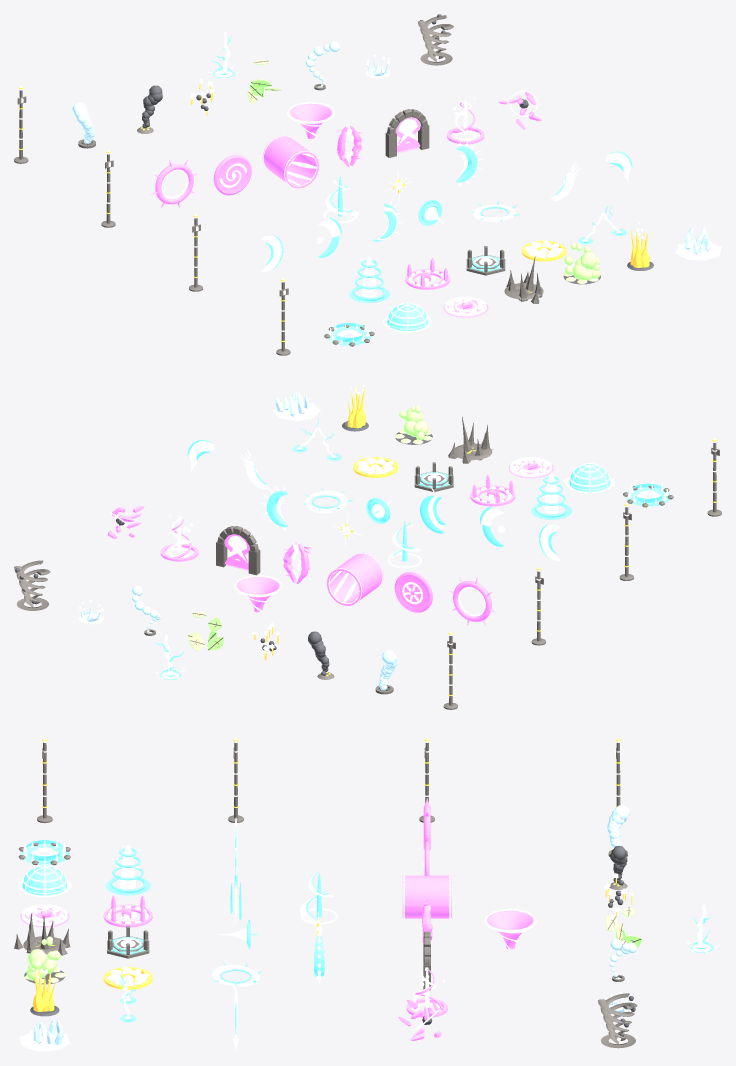
File: vfx-mesh-library-ability-showcase-grid-5e204cd5__21935.glb
3 renders of one model, top to bottom at view 1: azimuth 30°, elevation 25°; view 2: azimuth 150°, elevation 25°; view 3: azimuth 270°, elevation 25°, orthographic. The views are drawn at different scales.
Parts seen in each view (by area): view 1: 026-warp-tunnel-segment/0, 025-portal-disc-swirl/0, 039-dust-devil/0, 004-poison-cloud-lobes/0, 028-gateway-arch/0, 006-ice-patch-shards/0, 003-spike-eruption-cluster/0, 031-wormhole-funnel/0, 001-expanding-dome/0, 024-portal-ring/0, 007-healing-column/1, 008-summoning-circle/0 (+4 smaller); view 2: 026-warp-tunnel-segment/0, 025-portal-disc-swirl/0, 039-dust-devil/0, 028-gateway-arch/0, 003-spike-eruption-cluster/0, 004-poison-cloud-lobes/0, 006-ice-patch-shards/0, 031-wormhole-funnel/0, 001-expanding-dome/0, 024-portal-ring/0, 036-falling-leaf-cluster/0, 007-healing-column/1 (+6 smaller); view 3: 026-warp-tunnel-segment/0, 039-dust-devil/0, 004-poison-cloud-lobes/0, 006-ice-patch-shards/0, 031-wormhole-funnel/0, 003-spike-eruption-cluster/0, 001-expanding-dome/0, 007-healing-column/1, 008-summoning-circle/0, 001-expanding-dome/1, 002-ground-rune-circle/1, 009-teleport-pad-glyph/0 (+7 smaller).
Part boxes in pixels (<box>): 026-warp-tunnel-segment/0: <box>262,135,319,188</box>; 025-portal-disc-swirl/0: <box>213,154,251,195</box>; 039-dust-devil/0: <box>418,15,453,65</box>; 004-poison-cloud-lobes/0: <box>563,243,601,283</box>; 028-gateway-arch/0: <box>385,109,429,157</box>; 006-ice-patch-shards/0: <box>676,226,720,260</box>; 003-spike-eruption-cluster/0: <box>504,256,543,303</box>; 031-wormhole-funnel/0: <box>290,103,332,138</box>; 001-expanding-dome/0: <box>387,303,427,330</box>; 024-portal-ring/0: <box>151,159,198,208</box>; 007-healing-column/1: <box>349,259,389,302</box>; 008-summoning-circle/0: <box>405,258,449,289</box>; 026-warp-tunnel-segment/0: <box>327,552,383,605</box>; 025-portal-disc-swirl/0: <box>394,572,432,612</box>; 039-dust-devil/0: <box>14,560,50,610</box>; 028-gateway-arch/0: <box>216,526,260,575</box>; 003-spike-eruption-cluster/0: <box>448,416,493,463</box>; 004-poison-cloud-lobes/0: <box>394,405,432,444</box>; 006-ice-patch-shards/0: <box>274,390,318,420</box>; 031-wormhole-funnel/0: <box>236,577,279,612</box>; 001-expanding-dome/0: <box>569,464,610,491</box>; 024-portal-ring/0: <box>448,577,495,625</box>; 036-falling-leaf-cluster/0: <box>188,612,223,650</box>; 007-healing-column/1: <box>530,476,571,519</box>; 026-warp-tunnel-segment/0: <box>402,875,451,918</box>; 039-dust-devil/0: <box>598,993,637,1048</box>; 004-poison-cloud-lobes/0: <box>24,936,65,983</box>; 006-ice-patch-shards/0: <box>20,1019,69,1051</box>; 031-wormhole-funnel/0: <box>487,910,534,949</box>; 003-spike-eruption-cluster/0: <box>14,913,70,955</box>; 001-expanding-dome/0: <box>22,865,66,895</box>; 007-healing-column/1: <box>105,848,150,895</box>; 008-summoning-circle/0: <box>103,895,152,927</box>; 001-expanding-dome/1: <box>18,864,71,897</box>; 002-ground-rune-circle/1: <box>22,904,67,925</box>; 009-teleport-pad-glyph/0: <box>107,926,149,958</box>.
Bounding box in the file's own units: 11.4 × 1.83 × 14.44.
